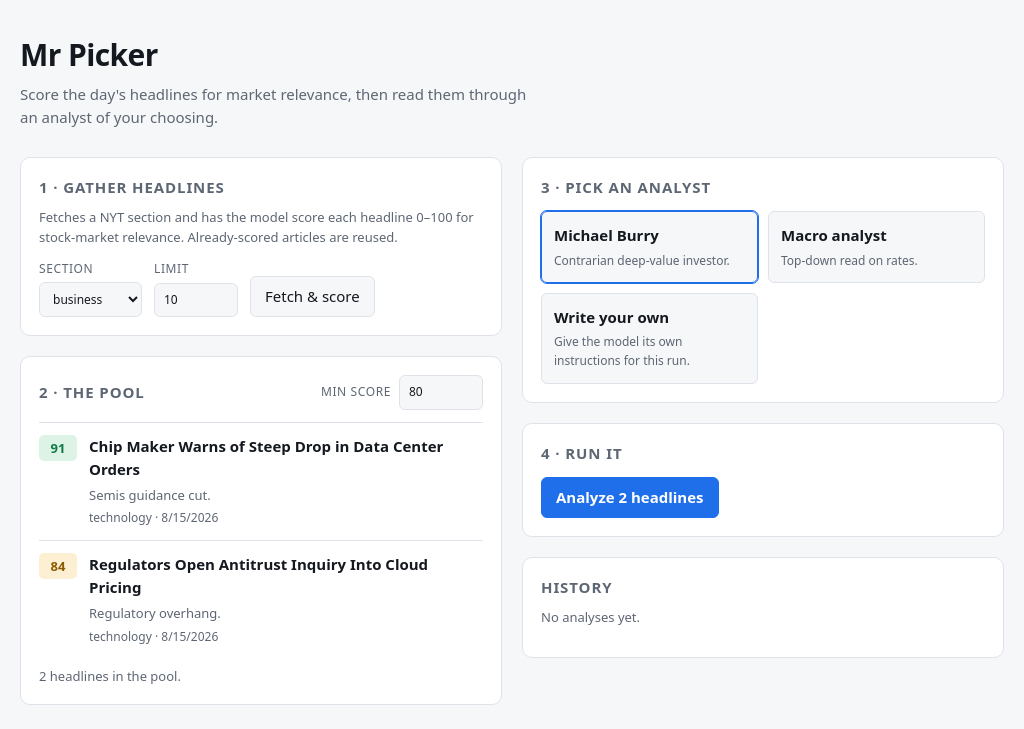
Test: App › saves a custom prompt so it joins the list
Click the text "Write your own".
click(612, 318)  # box [554, 306, 669, 329]
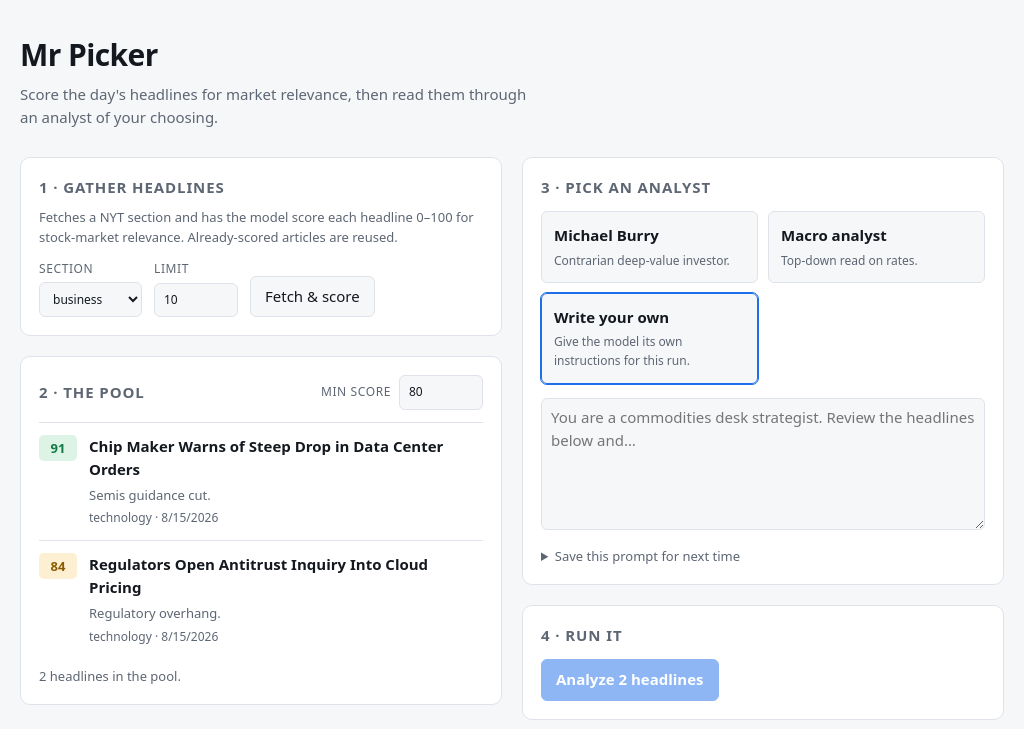
Type "You are a quant." into the text box with placeholder "commodities desk strategist".
click(763, 464); type("You are a quant.")  # box [541, 398, 985, 530]
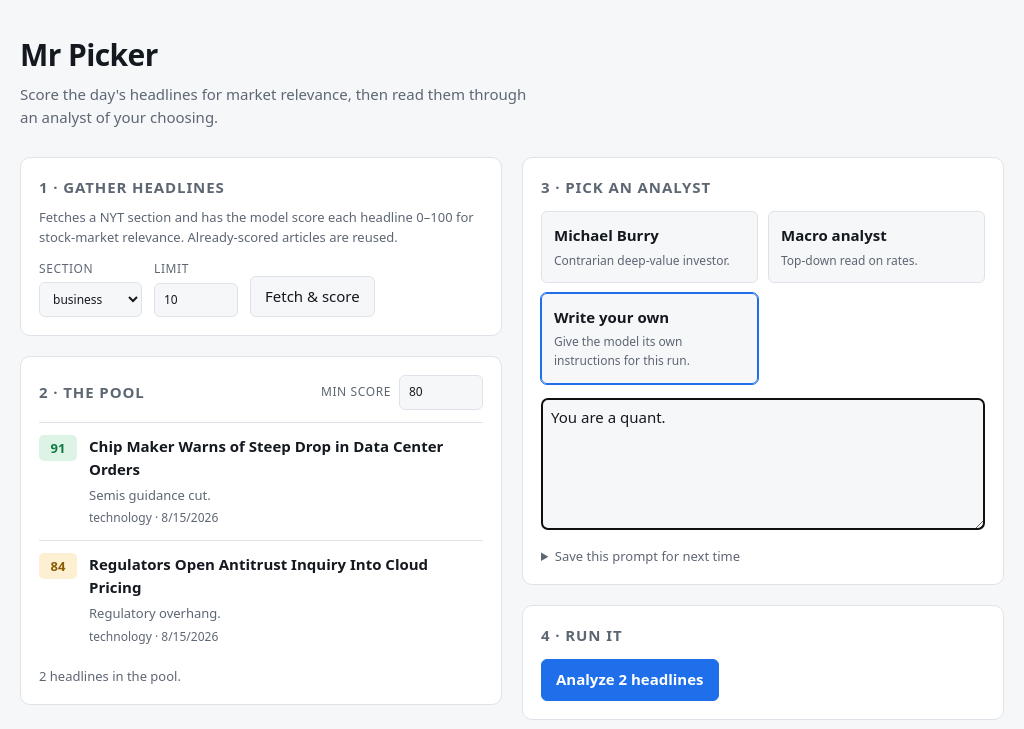
Click the heading "Save this prompt for next time".
click(647, 556)  # box [555, 547, 740, 565]
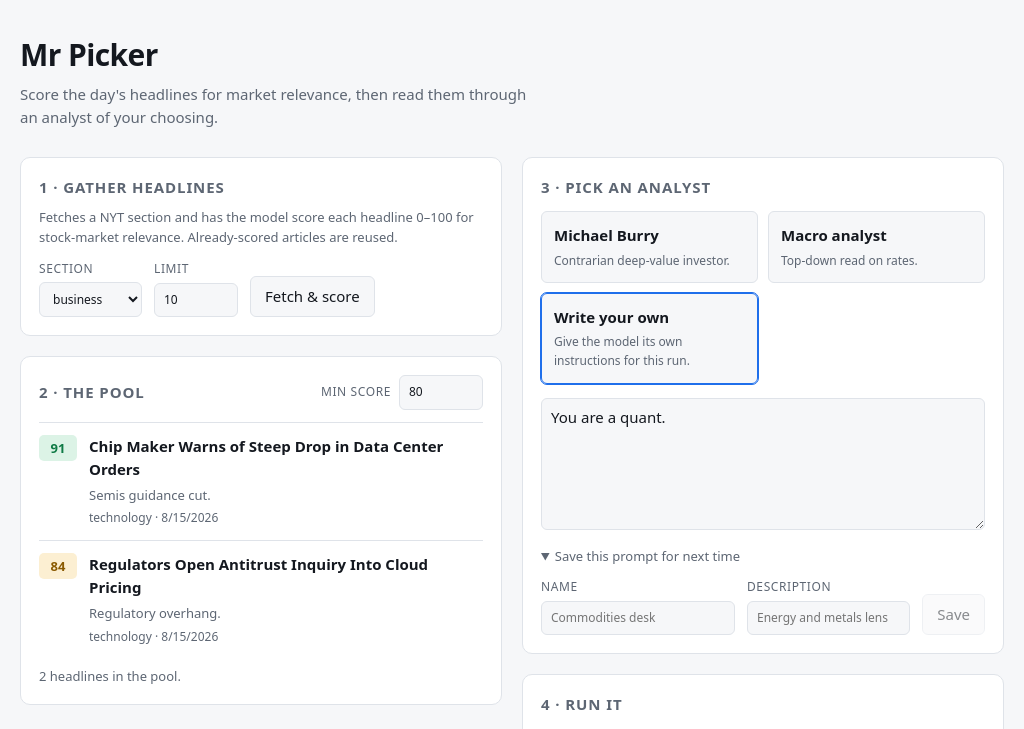
Type "My take" into the field with placeholder "Commodities desk".
click(638, 618); type("My take")  # box [541, 601, 735, 635]
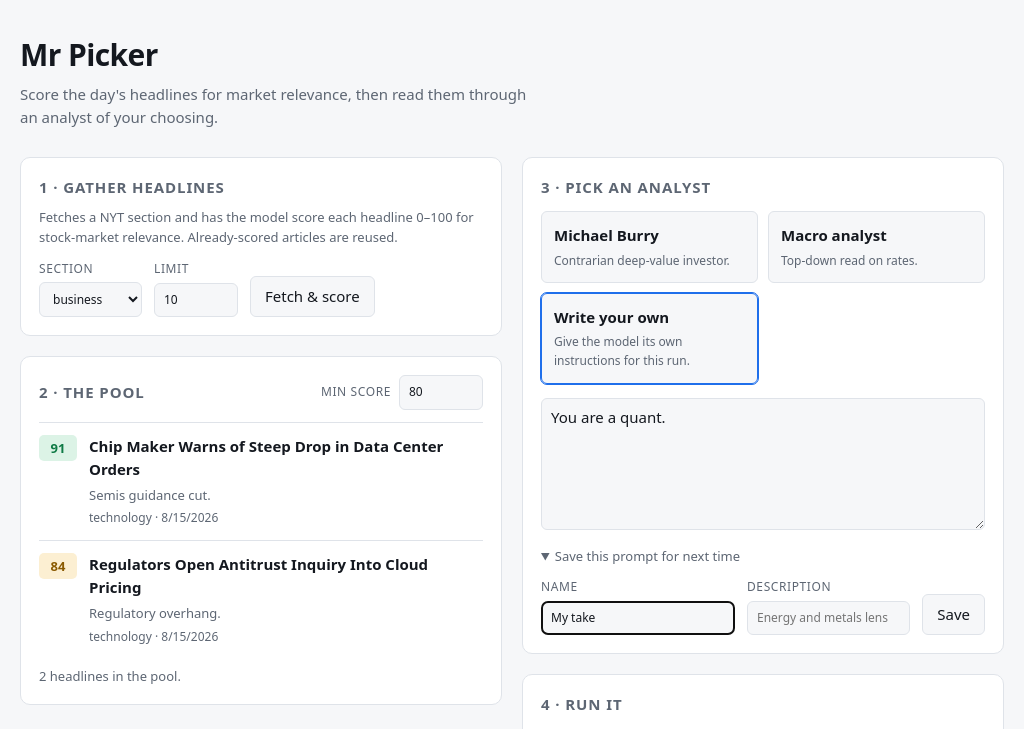
Click the button "Save".
click(954, 615)  # box [922, 594, 985, 635]
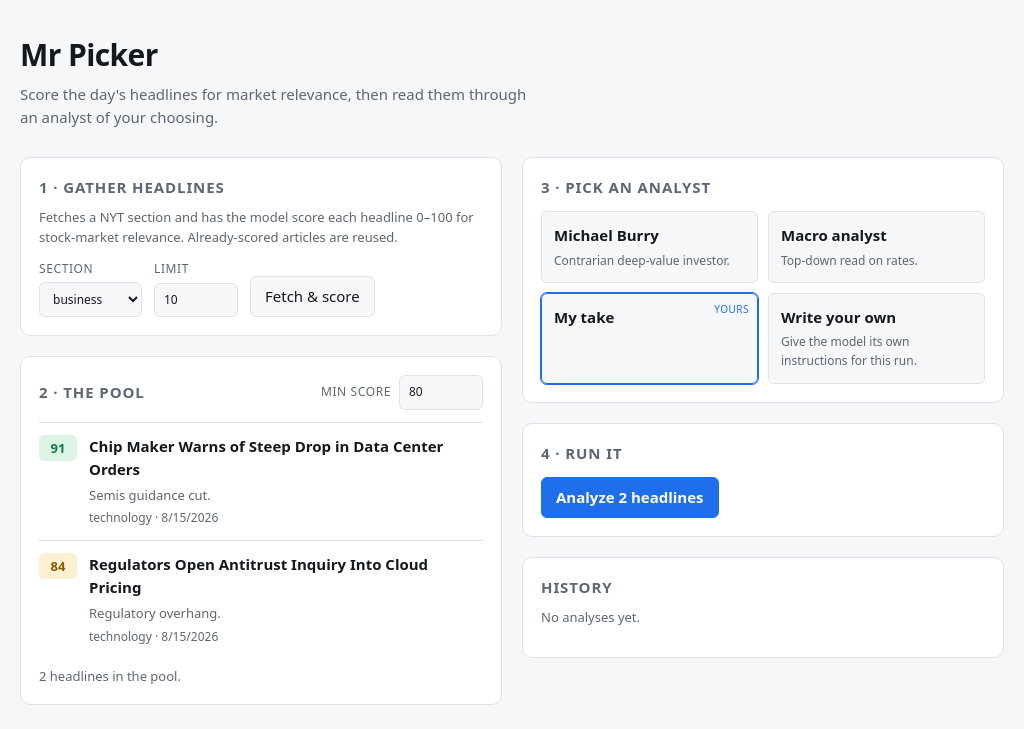
Now the text "My take" is shown, box [554, 306, 614, 329]
